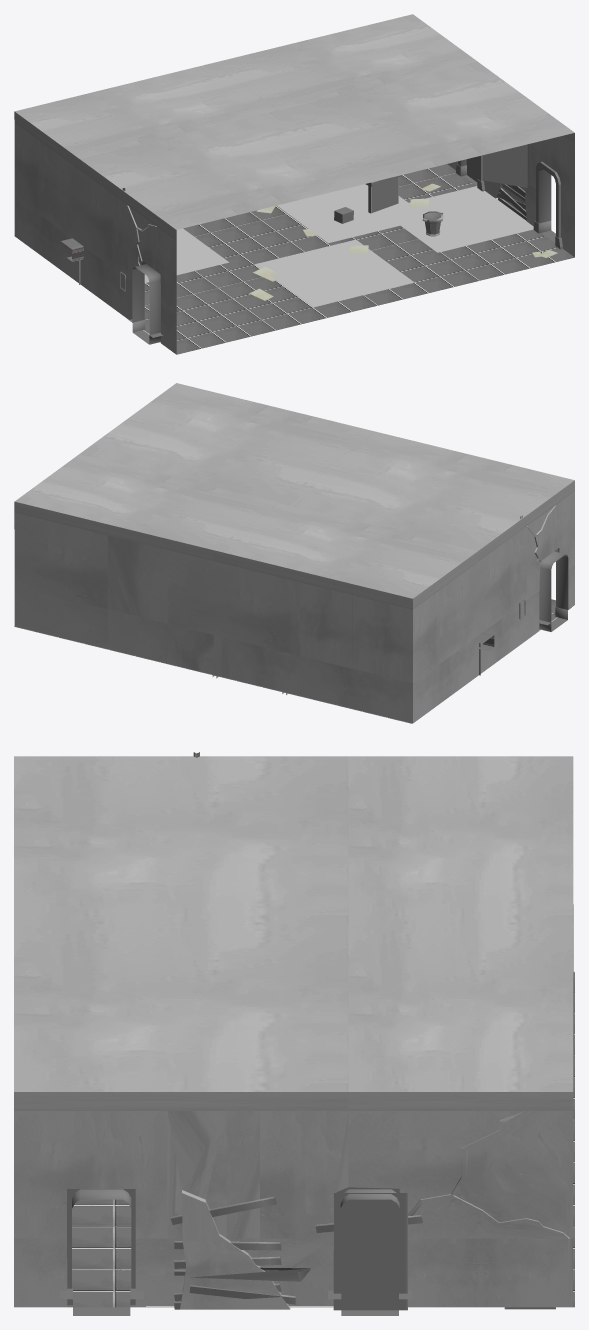
File: MSH_QuestStandard_L5_R2_optimized.fbx
The picture shows the model from 3 angles, top to bottom: view 1: azimuth 30°, elevation 25°; view 2: azimuth 150°, elevation 25°; view 3: azimuth 270°, elevation 25°; orthographic projection. The views are drawn at different scales.
Parts seen in each view (by area): view 1: lightmap2, lightmap1, lightmap0, MSH_Quest_Standard_L5_R2_Papers_01; view 2: lightmap2, lightmap0, lightmap1; view 3: lightmap2, lightmap1, lightmap0.
Boxes of the visible parts, box(x1,y1,x2,y2) form: lightmap2: box(14, 14, 574, 354); lightmap1: box(14, 156, 574, 354); lightmap0: box(120, 144, 562, 344); MSH_Quest_Standard_L5_R2_Papers_01: box(249, 183, 557, 300); lightmap2: box(14, 383, 574, 723); lightmap0: box(519, 548, 571, 631); lightmap1: box(14, 515, 557, 723); lightmap2: box(14, 756, 574, 1309); lightmap1: box(67, 752, 574, 1310); lightmap0: box(59, 1187, 555, 1315).
Size of the model in its own units: 20.69 by 6.13 by 13.85.
